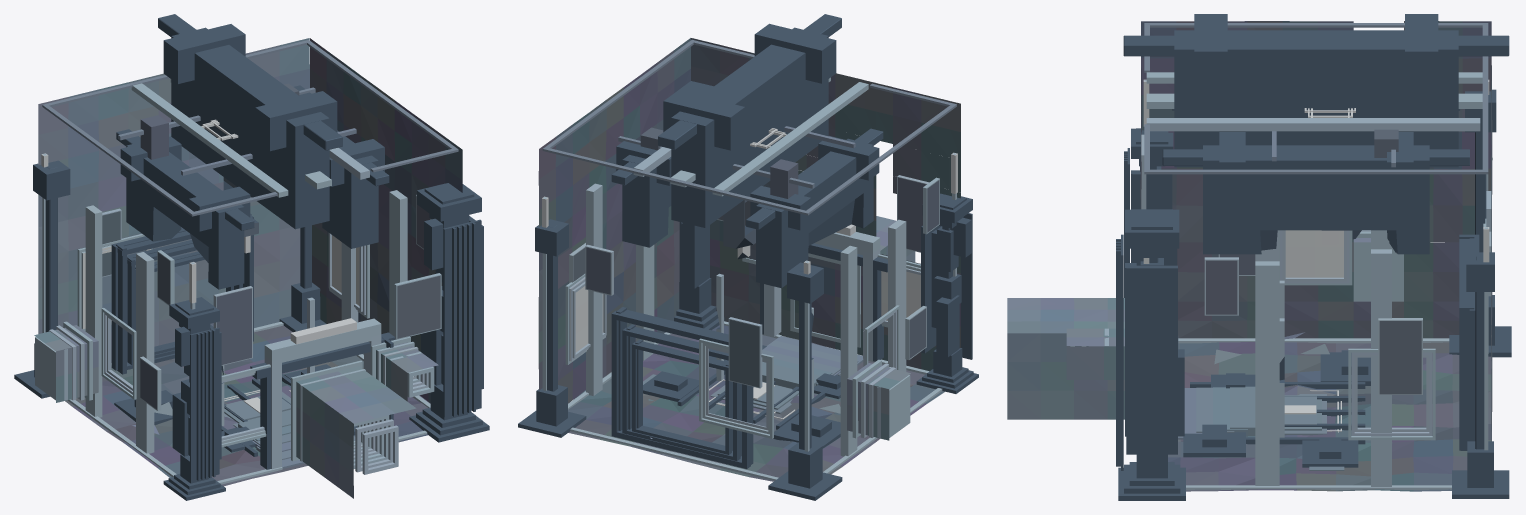
File: website_room.glb
3 views of the same model, side by side, from view 1: azimuth 30°, elevation 25°; view 2: azimuth 150°, elevation 25°; view 3: azimuth 270°, elevation 25° (orthographic). The views are drawn at different scales.
Visible parts, largest first — view 1: salle_cosmique; view 2: salle_cosmique; view 3: salle_cosmique.
Boxes of the visible parts, x1,y1,x2,y2 form: salle_cosmique: (14, 14, 489, 500); salle_cosmique: (518, 14, 978, 500); salle_cosmique: (1007, 14, 1511, 500).
Bounding box in the file's own units: 5.02 × 4.89 × 5.77.
